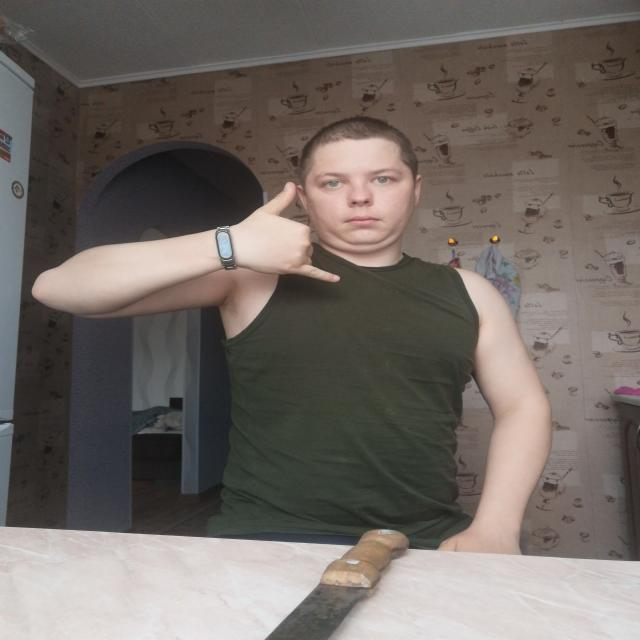call: (227, 178, 347, 284)
